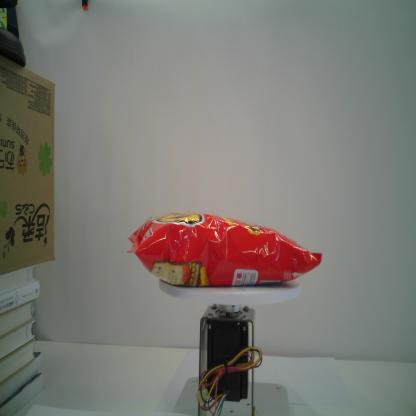Puffed Food: (124, 211, 323, 288)
